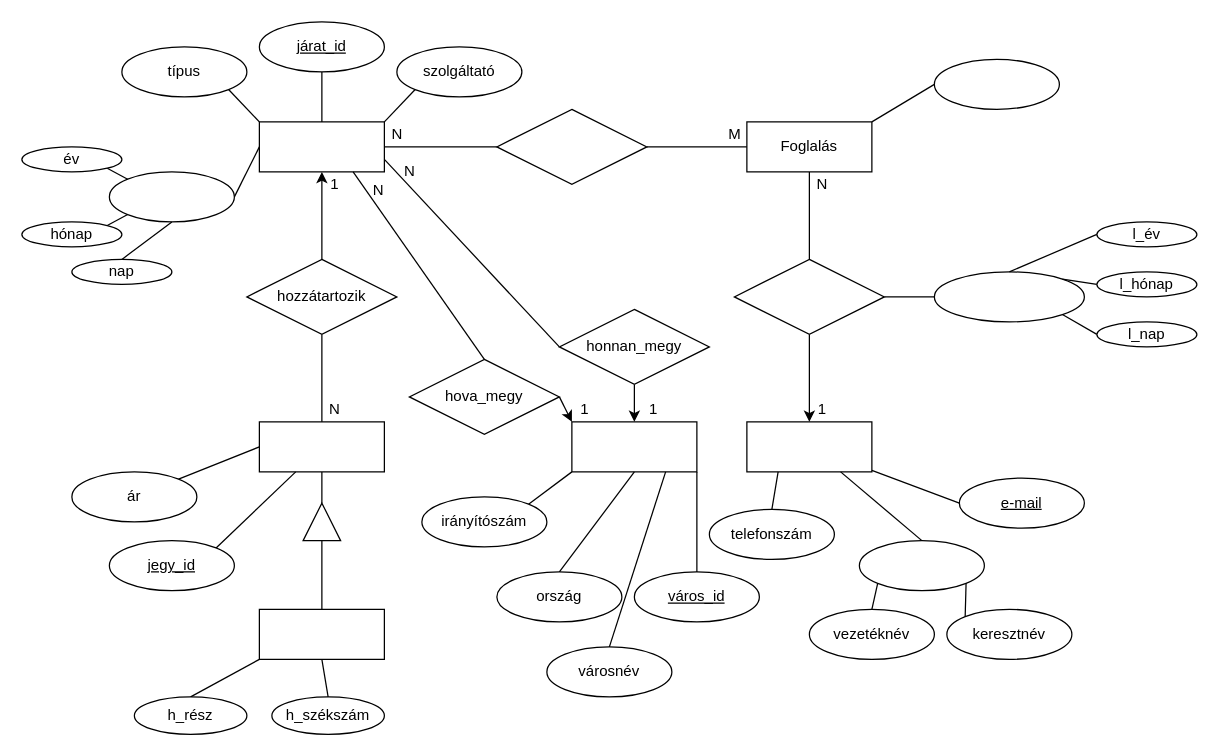
Some shapes in this 1219 by 756 pixel diagram are drawn without their labels. The centre of each missing label's shape, as x and y in pixels:
foglalás_id: point (996, 83)
Helyjegy: point (321, 633)
időpont: point (171, 196)
Jegy: point (321, 446)
Járat: point (321, 146)
létrehoz: point (808, 296)
létrehozás_dátuma: point (1008, 296)
név: point (921, 565)
tartalmaz: point (571, 146)
Város: point (634, 446)
Ügyfél: point (809, 446)
